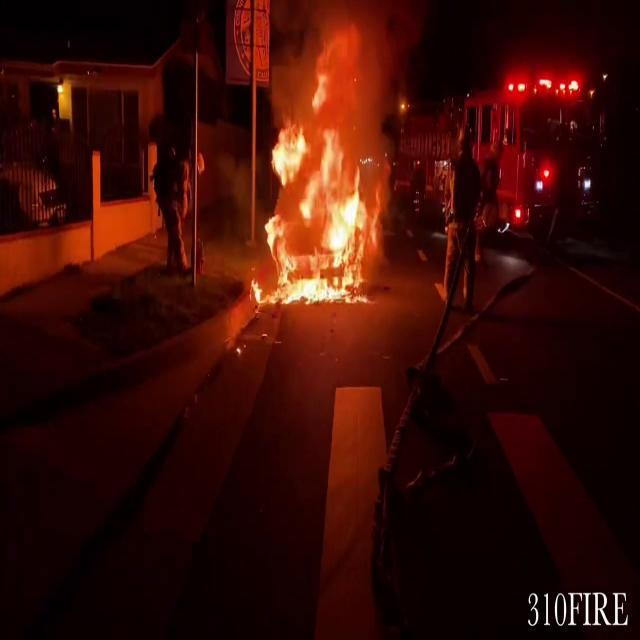Fire: (254, 70, 378, 308)
